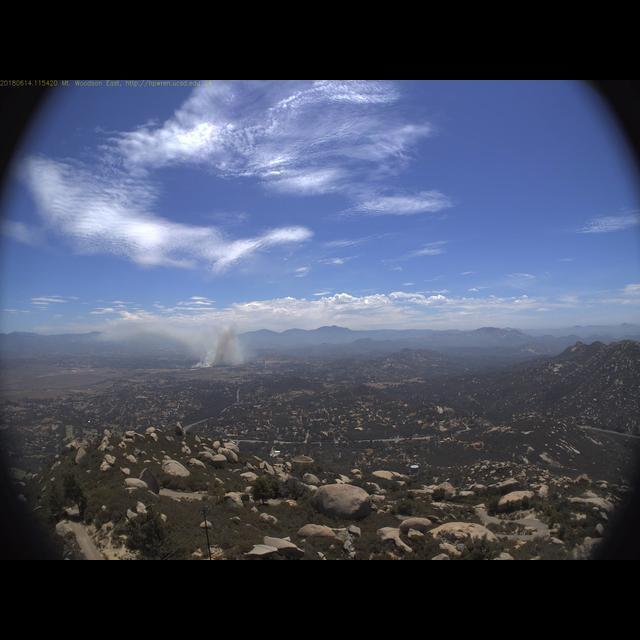Smoke: (95, 306, 250, 369)
